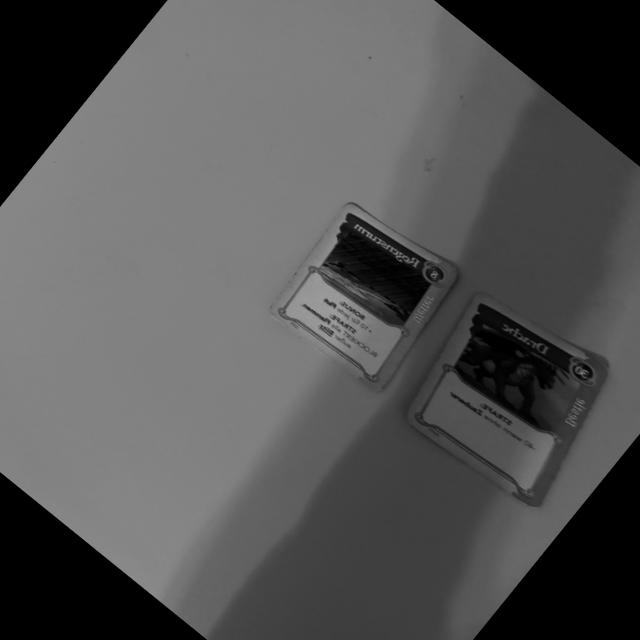Dragon: (399, 287, 611, 512)
Rainstorm: (263, 195, 460, 394)
